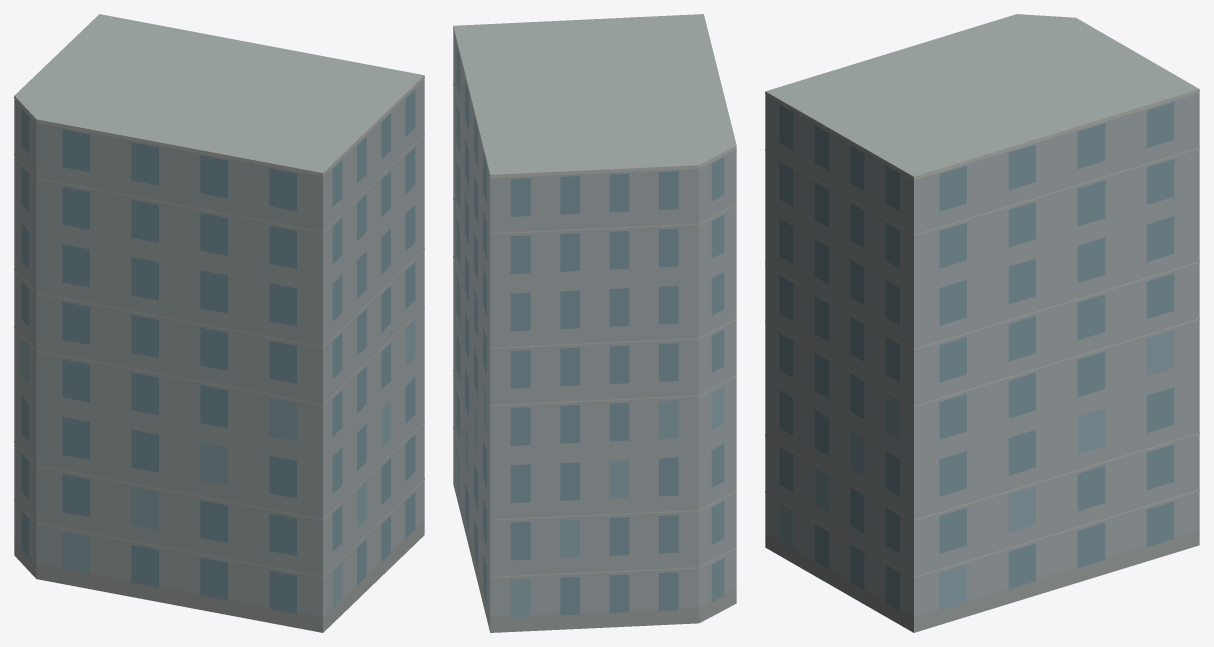
The model's file is survey-upis-32561136.glb.
The picture shows the model from 3 angles, left to right: view 1: azimuth 30°, elevation 25°; view 2: azimuth 150°, elevation 25°; view 3: azimuth 270°, elevation 25°; orthographic projection.
Parts seen in each view (by area): view 1: survey-upis-32561136.tmp; view 2: survey-upis-32561136.tmp; view 3: survey-upis-32561136.tmp.
Boxes of the visible parts, bbox=[...] form: survey-upis-32561136.tmp: bbox=[14, 14, 424, 632]; survey-upis-32561136.tmp: bbox=[453, 14, 736, 632]; survey-upis-32561136.tmp: bbox=[765, 14, 1199, 632].
Bounding box in the file's own units: 23.83 × 31.1 × 26.87.
